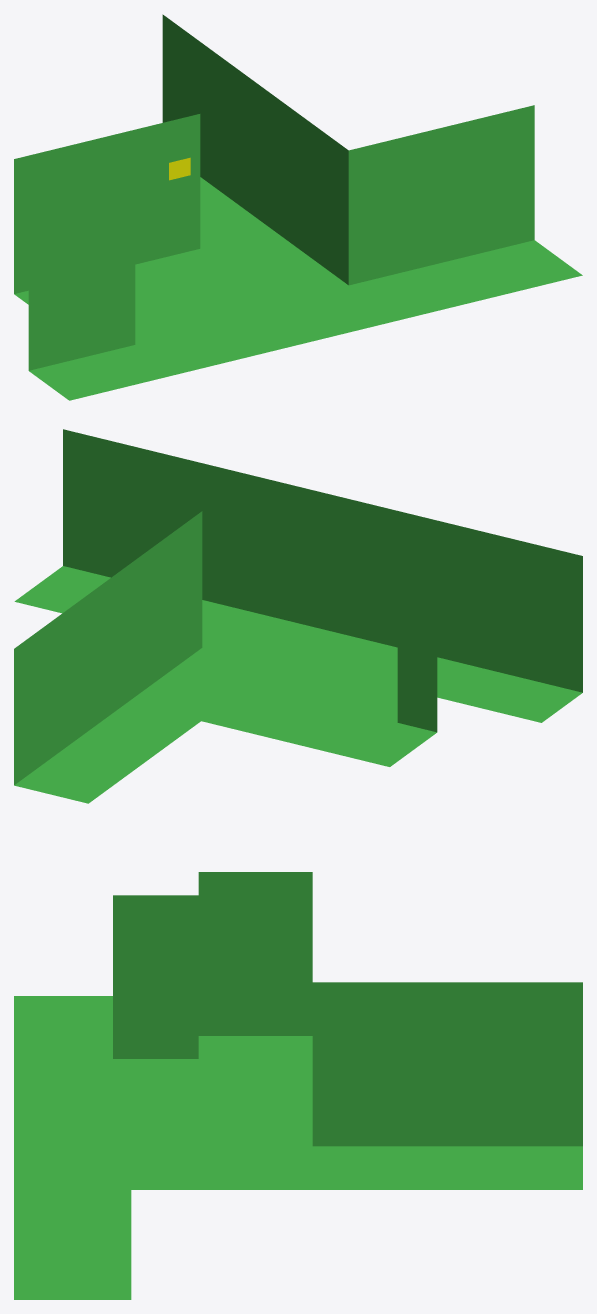
The model's file is office_fbx.glb.
The picture shows the model from 3 angles, top to bottom: view 1: azimuth 30°, elevation 25°; view 2: azimuth 150°, elevation 25°; view 3: azimuth 270°, elevation 25°; orthographic projection. The views are drawn at different scales.
Parts seen in each view (by area): view 1: Box001; view 2: Box001; view 3: Box001.
Boxes of the visible parts, x1,y1,x2,y2 form: Box001: [14, 14, 582, 400]; Box001: [14, 429, 582, 803]; Box001: [14, 872, 582, 1299].
Size of the model in its own units: 10.75 by 2.7 by 8.5.
Materials: 2 (1 with a texture image).
